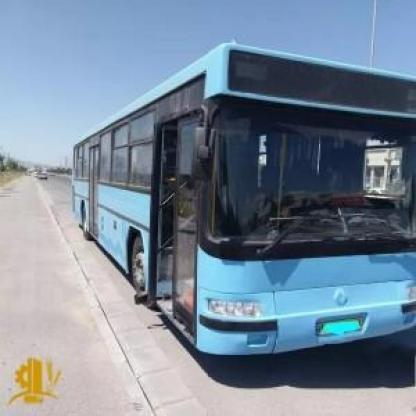Bus: (64, 40, 416, 369)
